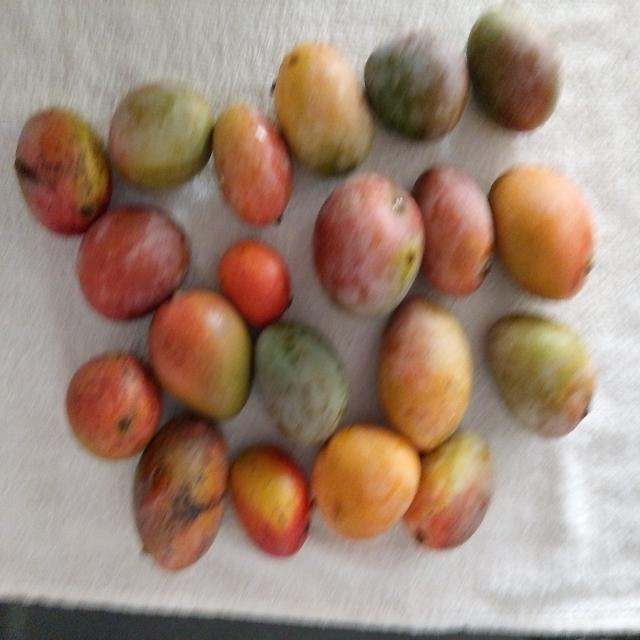mango: (311, 173, 425, 319), (136, 408, 229, 574), (488, 162, 598, 302), (482, 310, 598, 440), (270, 39, 379, 177), (310, 420, 420, 545), (12, 104, 113, 236), (211, 103, 298, 227), (415, 168, 496, 295)
